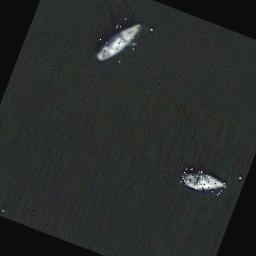boat: (92, 10, 144, 72), (179, 164, 229, 199)
